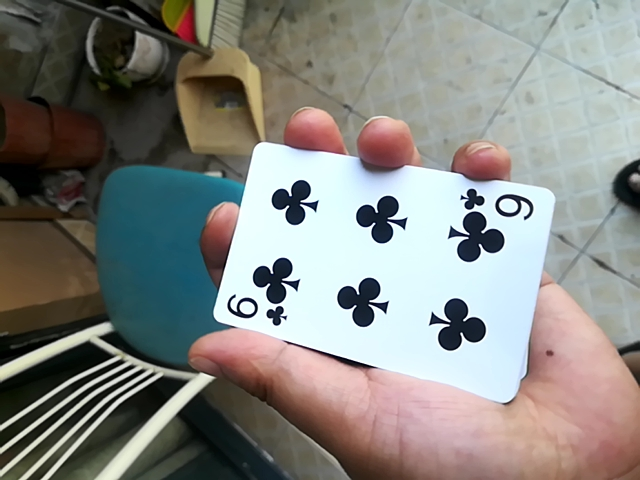mh 6: (206, 134, 550, 402)
